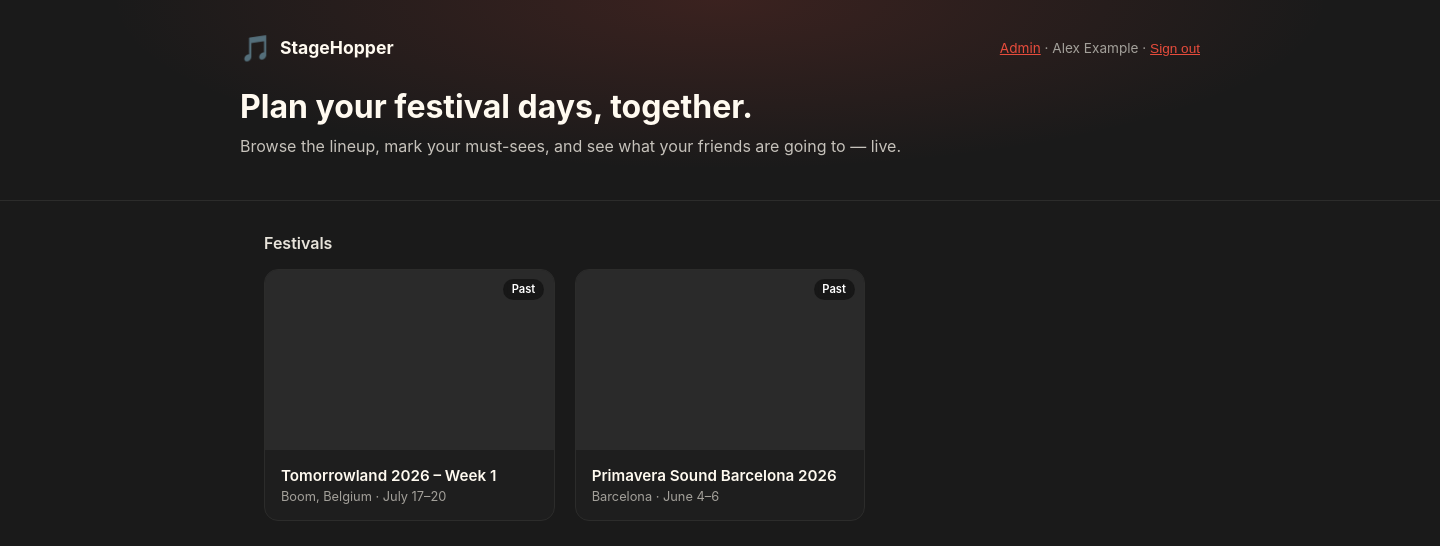
Test: landing page — the admin link › withdraws it on sign-out
Expected: the link "Admin" is shown, [1000,40,1041,56]
Click the button "Sign out" at (1175, 48), box [1150,40,1200,56]
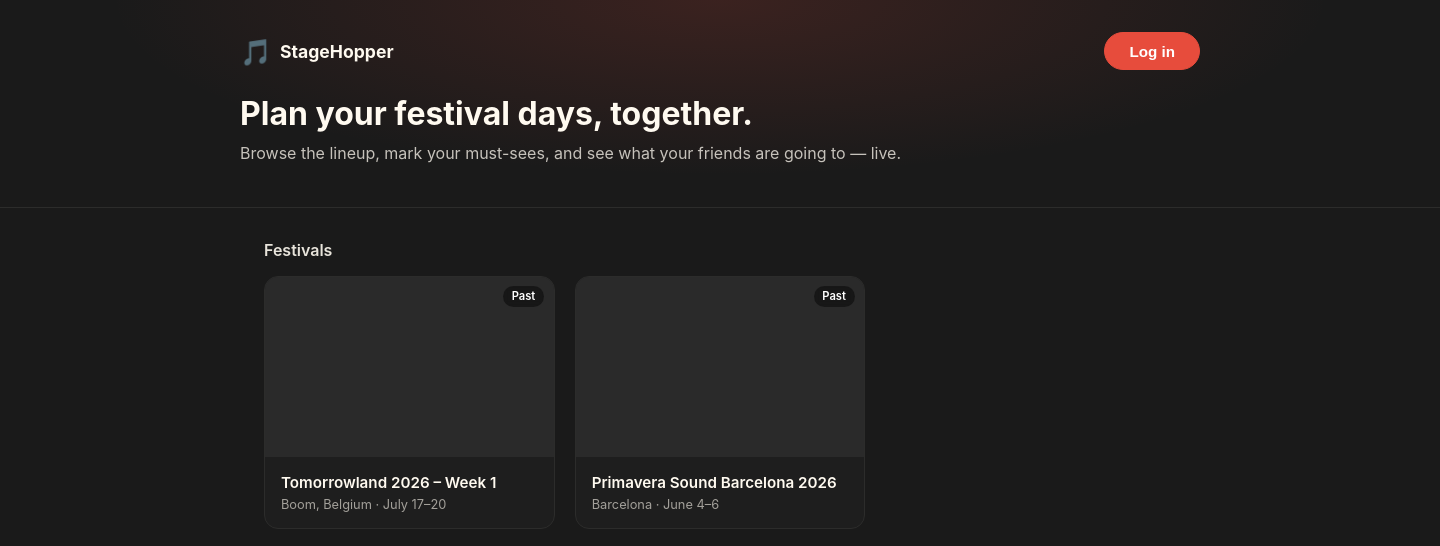
Now the link "Admin" is gone
